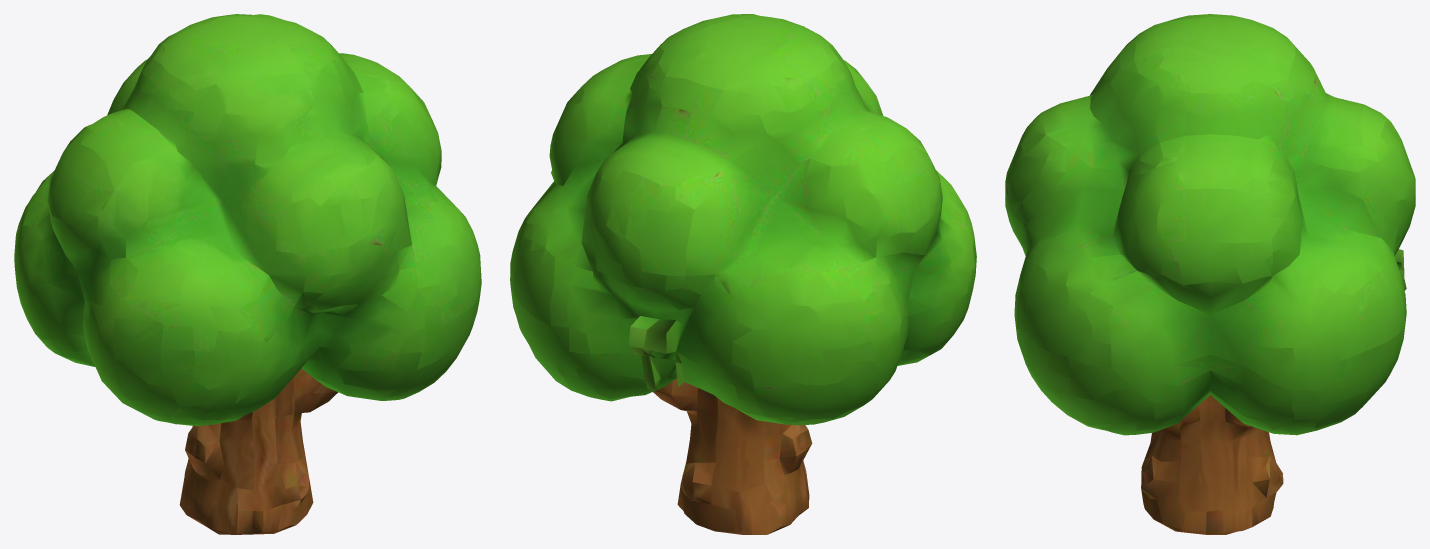
Rendered from campo_arbol1.glb.
3 views of the same model, side by side, from view 1: azimuth 30°, elevation 25°; view 2: azimuth 150°, elevation 25°; view 3: azimuth 270°, elevation 25° (orthographic).
Parts seen in each view (by area): view 1: tripo_node_c6c52260-d869-447e-868b-b0f68f523e53; view 2: tripo_node_c6c52260-d869-447e-868b-b0f68f523e53; view 3: tripo_node_c6c52260-d869-447e-868b-b0f68f523e53.
Boxes of the visible parts, x1=… form: tripo_node_c6c52260-d869-447e-868b-b0f68f523e53: x1=14, y1=14, x2=481, y2=534; tripo_node_c6c52260-d869-447e-868b-b0f68f523e53: x1=510, y1=14, x2=976, y2=534; tripo_node_c6c52260-d869-447e-868b-b0f68f523e53: x1=1005, y1=14, x2=1415, y2=534.
Bounding box in the file's own units: 0.8045 × 0.9995 × 0.7725.
1 material, 1 textured.
